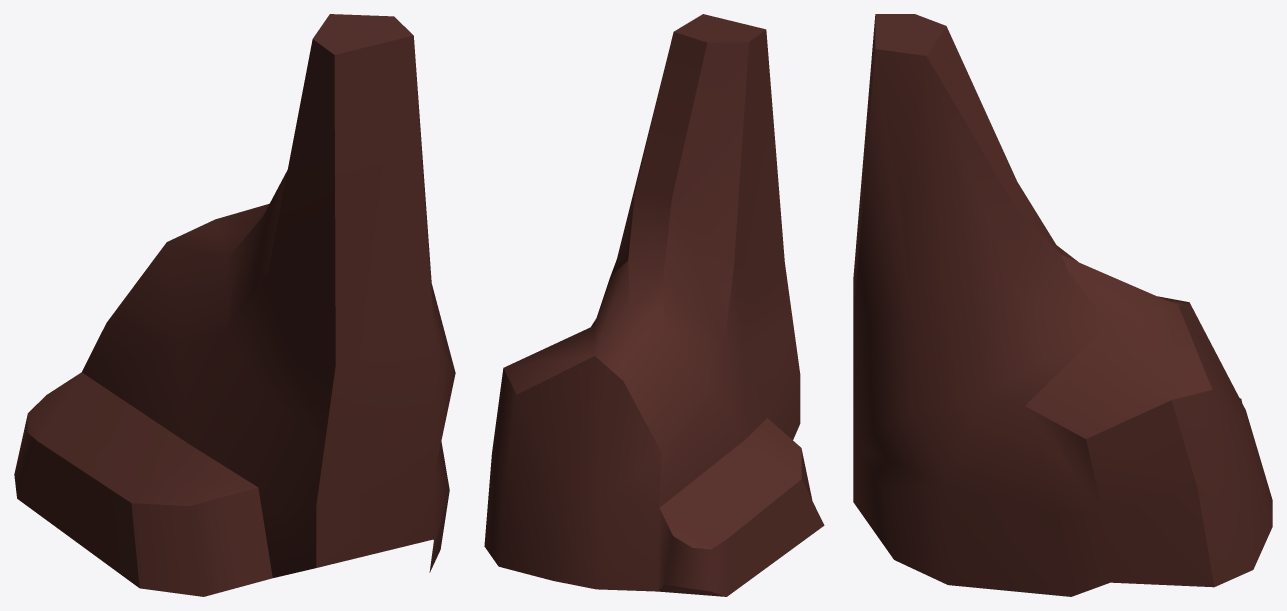
File: SM_small_rock_G.fbx
3 renders of one model, left to right at view 1: azimuth 30°, elevation 25°; view 2: azimuth 150°, elevation 25°; view 3: azimuth 270°, elevation 25°, orthographic. The views are drawn at different scales.
Visible parts, largest first — view 1: pCube30; view 2: pCube30; view 3: pCube30.
Part boxes in pixels (x1,y1,x2,y2): pCube30: [14, 14, 455, 596]; pCube30: [484, 14, 824, 596]; pCube30: [853, 14, 1272, 596].
Size of the model in its own units: 786 by 1329 by 991.
